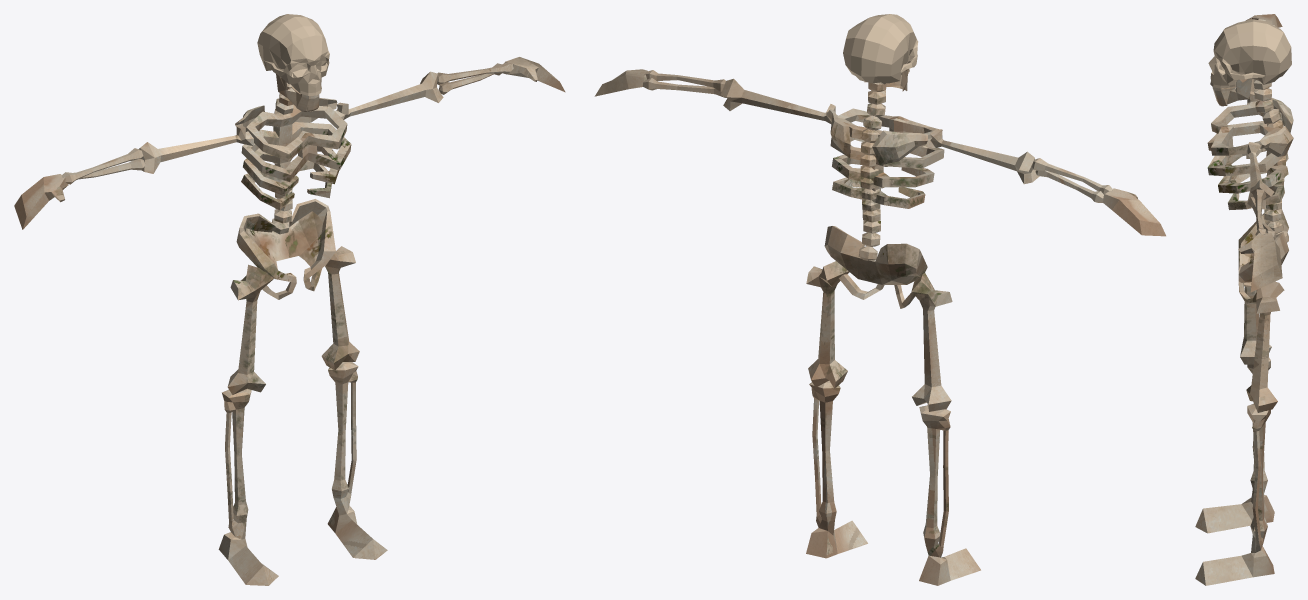
File: Skeleton_Tpose.fbx
3 views of the same model, side by side, from view 1: azimuth 30°, elevation 25°; view 2: azimuth 150°, elevation 25°; view 3: azimuth 270°, elevation 25° (orthographic). The views are drawn at different scales.
Visible parts, largest first — view 1: Object; view 2: Object; view 3: Object.
Boxes of the visible parts, <box> form: Object: <box>14,14,565,585</box>; Object: <box>594,14,1165,585</box>; Object: <box>1195,14,1293,585</box>.
Size of the model in its own units: 1011 by 950 by 160.
